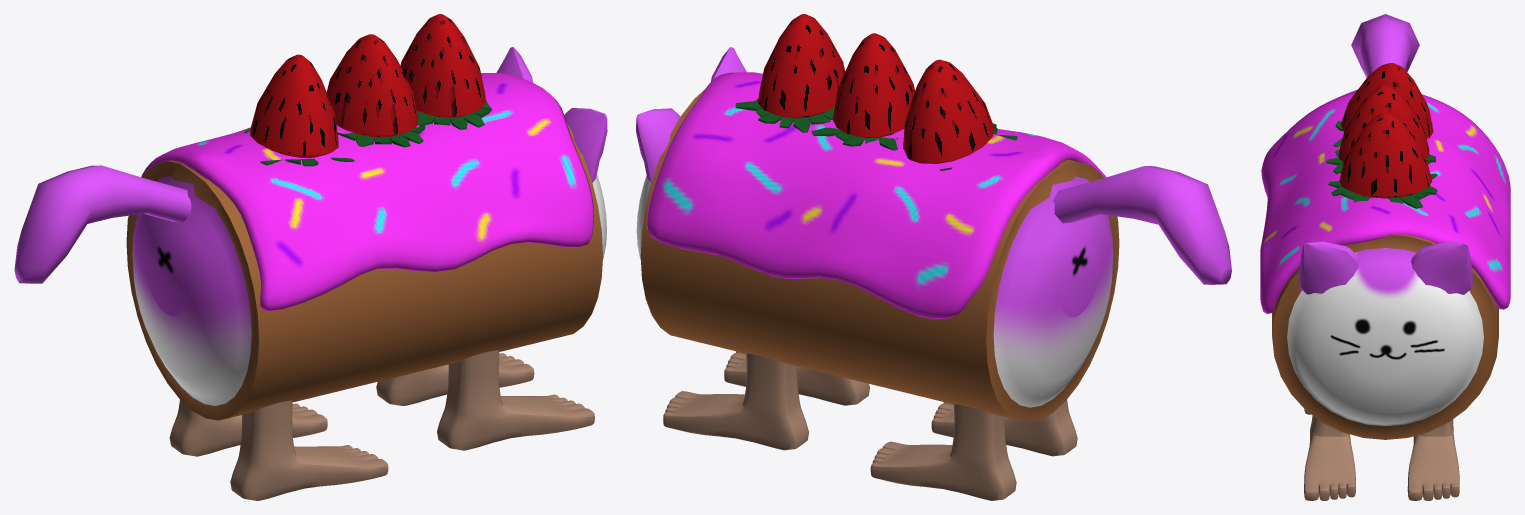
The model's file is cake-cat.glb.
3 views of the same model, side by side, from view 1: azimuth 30°, elevation 25°; view 2: azimuth 150°, elevation 25°; view 3: azimuth 270°, elevation 25° (orthographic). The views are drawn at different scales.
Parts seen in each view (by area): view 1: body, frosting, foot, Cylinder.003, Cylinder.002, Cylinder.004, ears; view 2: body, frosting, foot, Cylinder.002, Cylinder.004, Cylinder.003, ears; view 3: body, frosting, foot, Cylinder.002, ears, Cylinder.003, Cylinder.004.
Boxes of the visible parts, box(x1,y1,x2,y2) form: body: box(14, 122, 606, 420); frosting: box(141, 73, 593, 311); foot: box(169, 350, 594, 500); Cylinder.003: box(326, 34, 425, 147); Cylinder.002: box(400, 14, 491, 129); Cylinder.004: box(244, 54, 354, 166); ears: box(496, 47, 607, 182); body: box(636, 88, 1231, 422); frosting: box(646, 72, 1106, 319); foot: box(663, 351, 1077, 500); Cylinder.002: box(735, 14, 845, 132); Cylinder.004: box(903, 59, 1017, 170); Cylinder.003: box(811, 33, 915, 150); ears: box(636, 47, 746, 183); body: box(1272, 14, 1498, 439); frosting: box(1260, 89, 1510, 313); foot: box(1304, 409, 1459, 500); Cylinder.002: box(1328, 112, 1437, 208); ears: box(1298, 241, 1472, 294); Cylinder.003: box(1326, 85, 1435, 174); Cylinder.004: box(1333, 63, 1433, 146).
Bounding box in the file's own units: 3.23 × 2.23 × 1.48.
7 materials, 3 textured.
